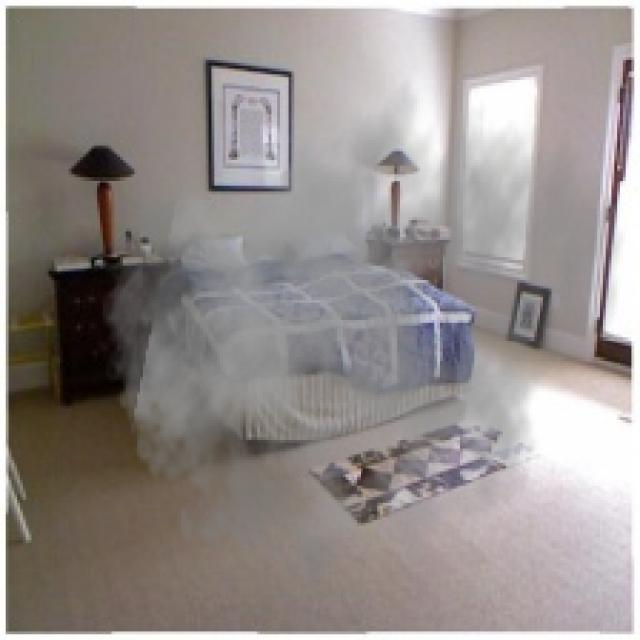smoke: (94, 57, 626, 609)
